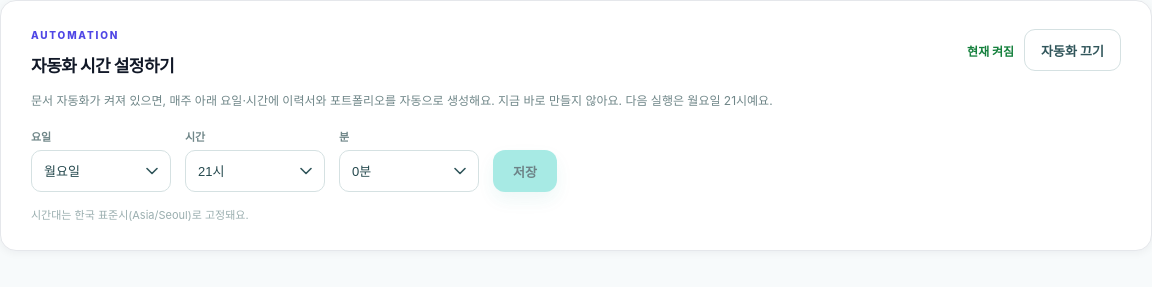
Test: AutomationScheduleSettings › 자동화 끄기를 누르면 시간은 유지한 채 enabled만 끈다
The image size is (1152, 287).
Step 1. Click the button "자동화 끄기" → click(1073, 50), box left=1024, top=29, right=1121, bottom=71
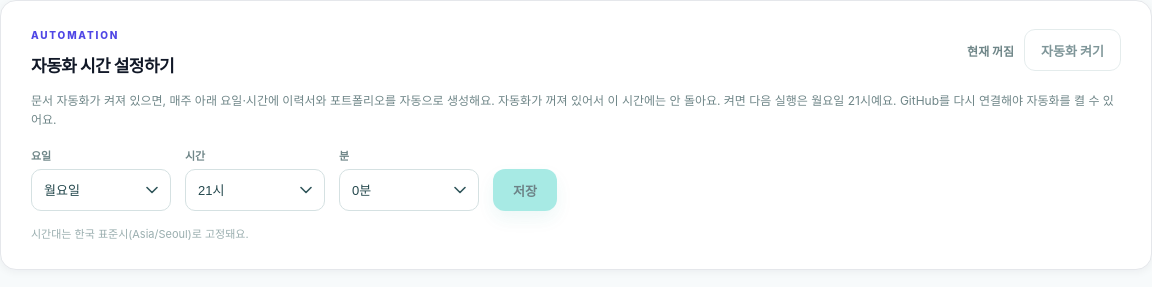
Check: the text "현재 꺼짐" is shown, box left=967, top=42, right=1014, bottom=58
Check: the button "자동화 켜기" is disabled, box left=1024, top=29, right=1121, bottom=71
Check: the text "GitHub를 다시 연결해야 자동화를 켤 수 있어요" is shown, box left=31, top=93, right=1114, bottom=127
